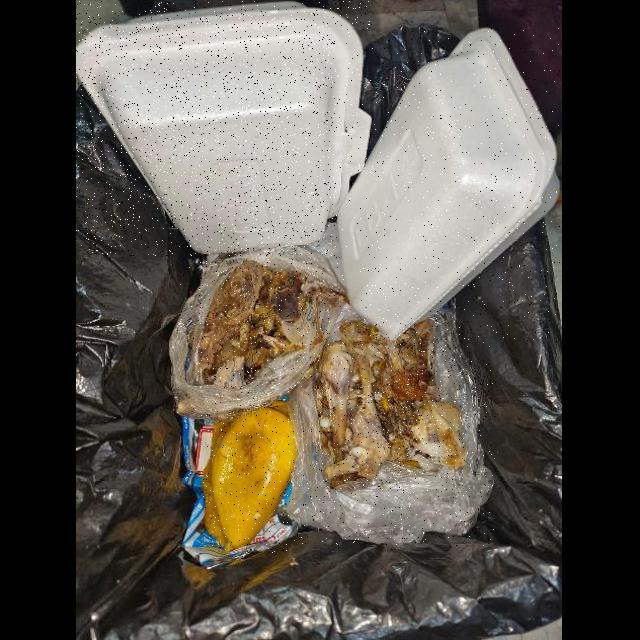biowaste: (317, 320, 468, 489), (199, 261, 345, 389), (201, 401, 298, 553)
plastic: (284, 300, 495, 546), (169, 247, 348, 422)
styrofoam: (76, 2, 372, 256), (337, 28, 560, 342)
